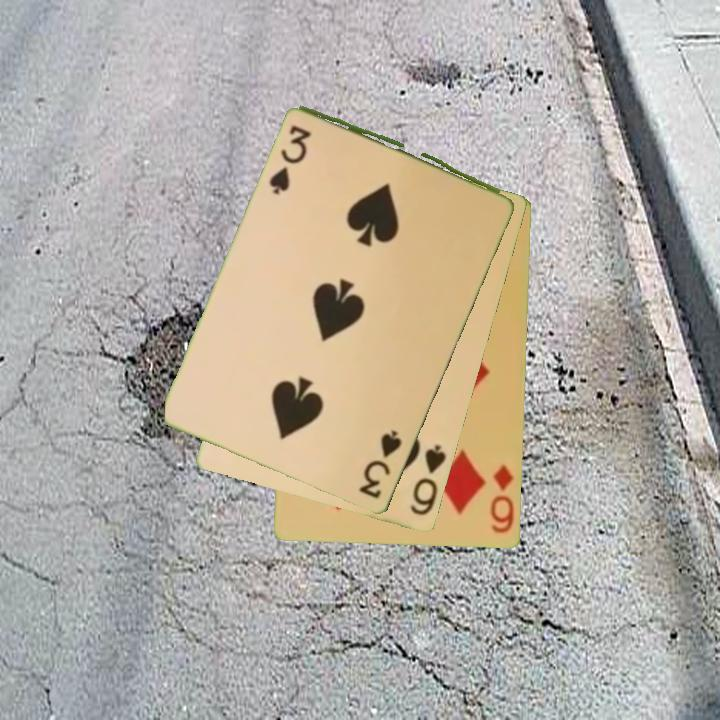3s: (355, 426, 405, 502), (265, 122, 315, 195)
6d: (487, 461, 518, 537)
6s: (407, 441, 450, 519)
